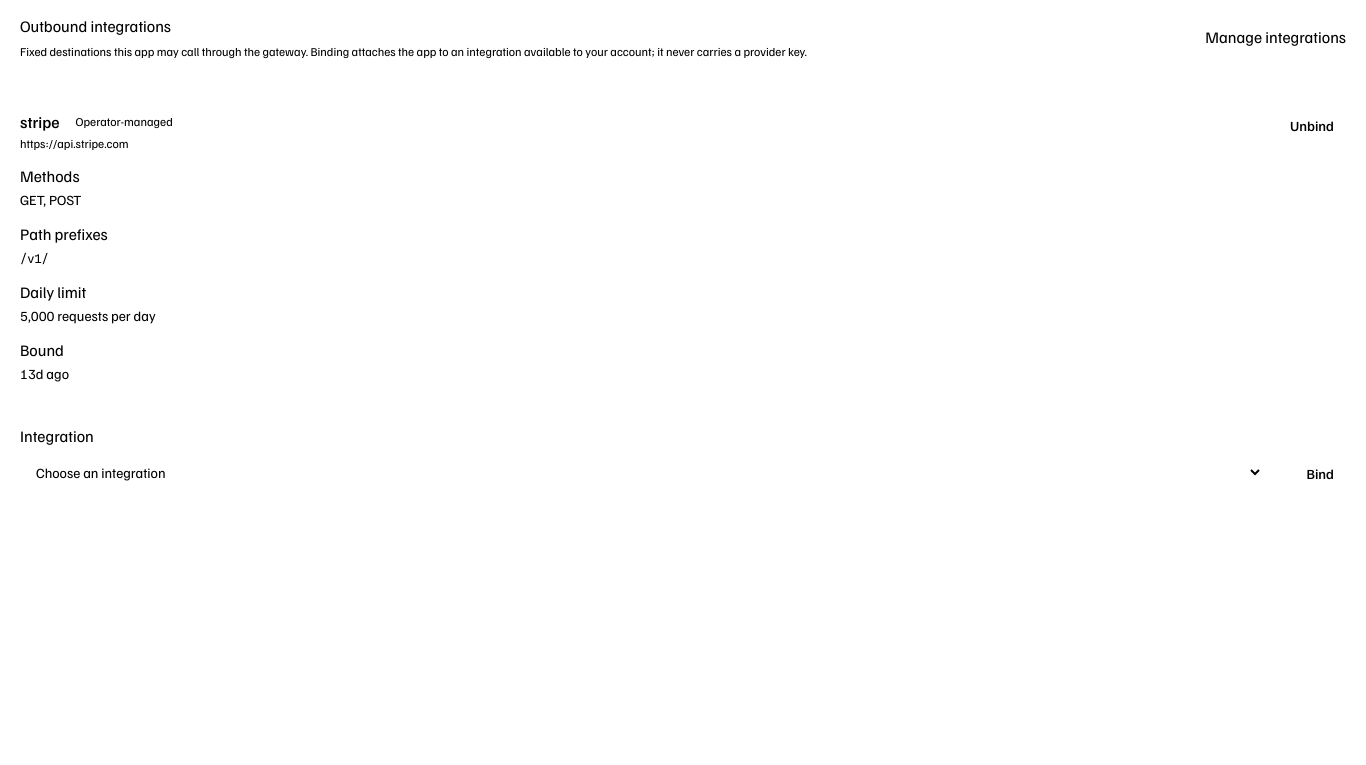
it: App outbound integrations › says a customer-sealed integration without a credential will not serve traffic yet
The image size is (1366, 765).
Select "geocoder" in the dropdown labelled "Integration" at (641, 472), box [20,454,1263,490]
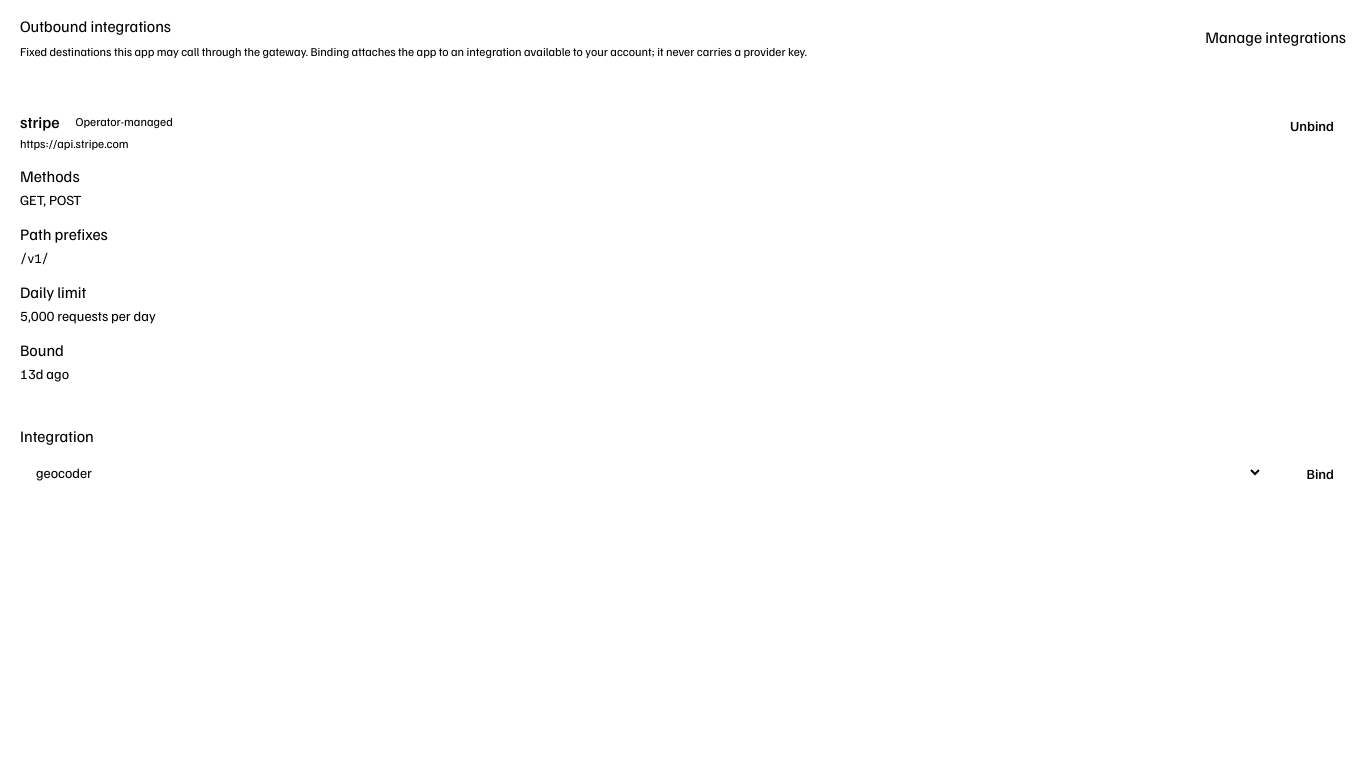
Click the button "Bind".
click(1310, 474)  # box [1275,458,1346,490]
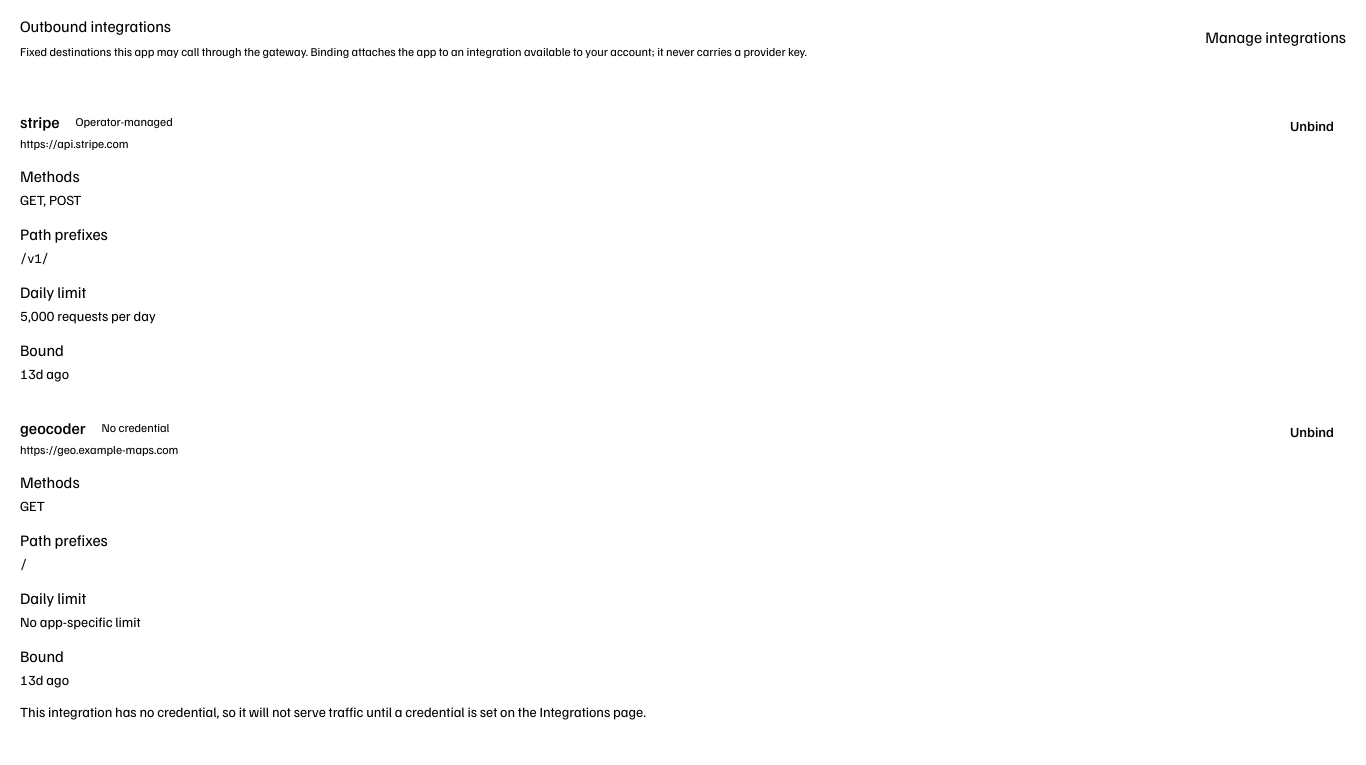
expect the text "No credential" is shown: met, box [102,420,169,435]
expect the list item "geocoder" shows "will not serve traffic until a credential is set": met, box [20,703,537,720]
